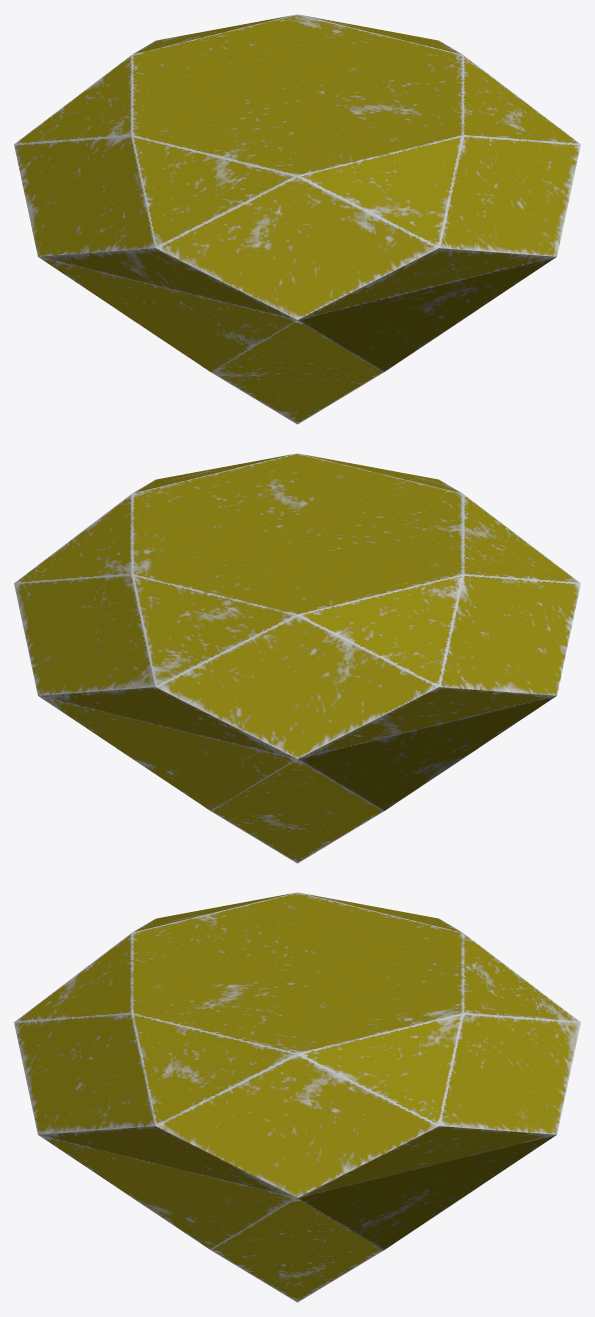
Rendered from TeleportGem.gltf.
The picture shows the model from 3 angles, top to bottom: view 1: azimuth 30°, elevation 25°; view 2: azimuth 150°, elevation 25°; view 3: azimuth 270°, elevation 25°; orthographic projection.
Parts seen in each view (by area): view 1: Gem.001; view 2: Gem.001; view 3: Gem.001.
Part boxes in pixels (left/top/right/bottom): Gem.001: left=14, top=14, right=580, bottom=424; Gem.001: left=14, top=453, right=580, bottom=863; Gem.001: left=14, top=892, right=580, bottom=1302.
Size of the model in its own units: 0.94 by 0.57 by 0.8891.
1 material, 1 textured.
